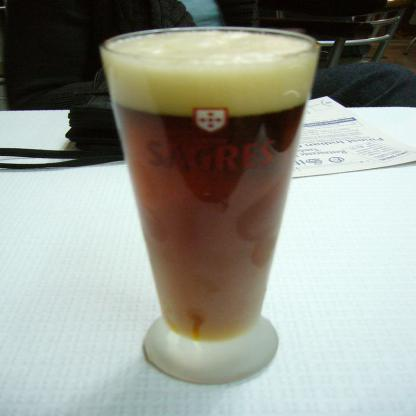drinking: (100, 26, 320, 385)
